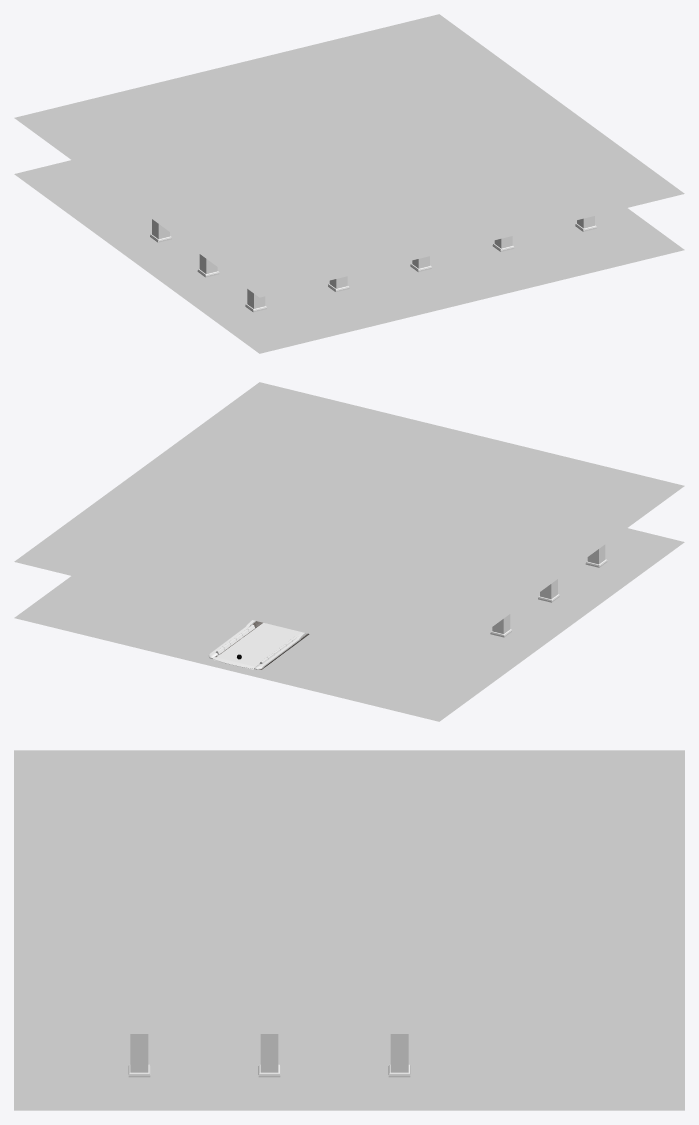
Rendered from World.fbx.
3 renders of one model, top to bottom at view 1: azimuth 30°, elevation 25°; view 2: azimuth 150°, elevation 25°; view 3: azimuth 270°, elevation 25°, orthographic. The views are drawn at different scales.
Parts seen in each view (by area): view 1: Plane_009, Plane_004, Cube_008; view 2: Plane_009, Plane_004, Exploder__Plane_, Cube_008; view 3: Plane_009, Plane_004, Cube_008.
Boxes of the visible parts, left/top/right/bottom form: Plane_009: left=14, top=14, right=684, bottom=297; Plane_004: left=14, top=160, right=684, bottom=353; Cube_008: left=150, top=216, right=596, bottom=312; Plane_009: left=14, top=382, right=684, bottom=665; Plane_004: left=14, top=528, right=684, bottom=721; Exploder__Plane_: left=213, top=623, right=301, bottom=669; Cube_008: left=490, top=544, right=607, bottom=637; Plane_009: left=14, top=750, right=684, bottom=1033; Plane_004: left=14, top=1034, right=684, bottom=1110; Cube_008: left=128, top=1034, right=410, bottom=1077.
Size of the model in its own units: 30000 by 5139 by 30000.
16 materials, 1 textured.
